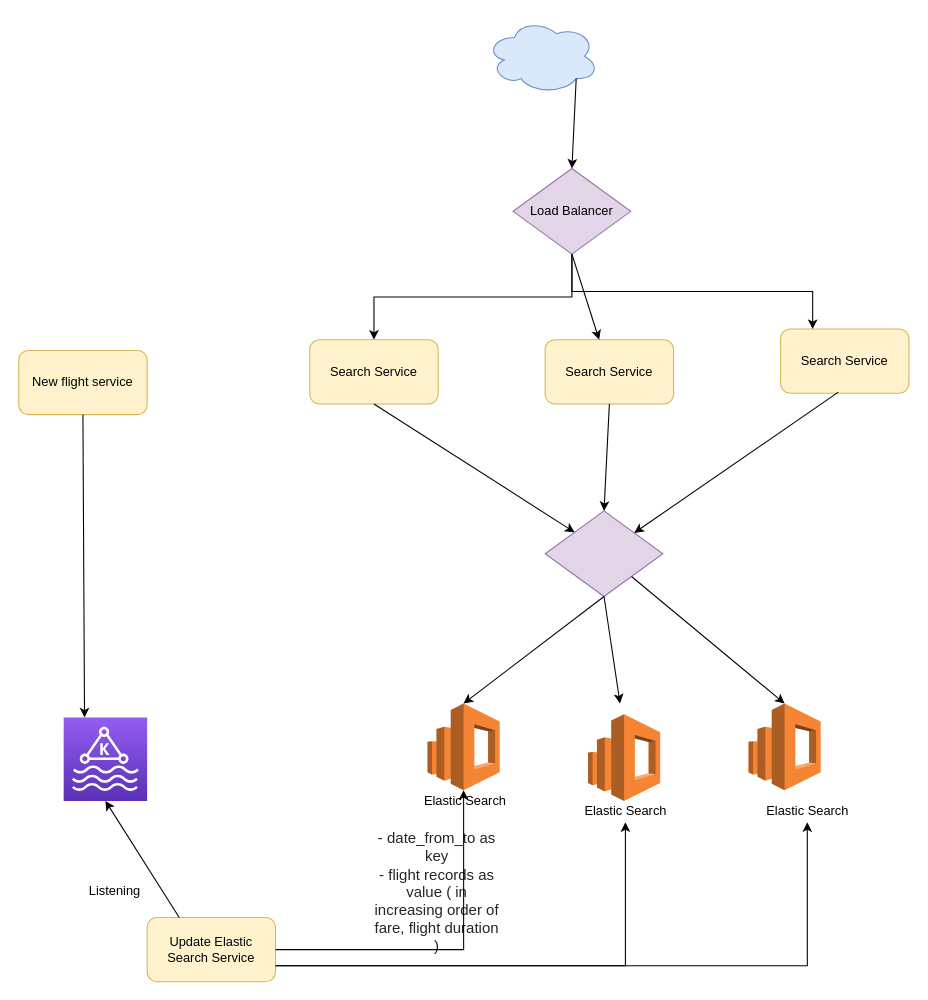
This 928x1000 diagram has some shape labels left out. Each missing label, with the centre of its shape:
Customer: pixel 542 56
Elastic Cluster: pixel 603 553
Update Search Index Topic: pixel 105 758
